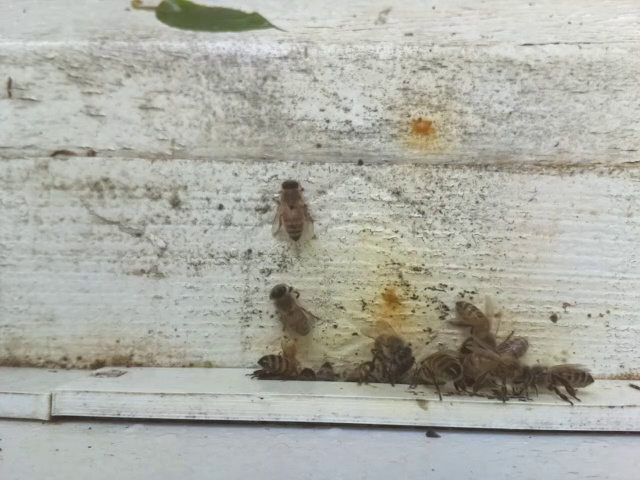bee: (258, 281, 334, 340), (468, 349, 538, 409), (269, 171, 320, 243), (444, 291, 506, 347), (519, 358, 598, 401), (363, 320, 419, 377), (415, 346, 467, 398), (244, 344, 309, 385)
